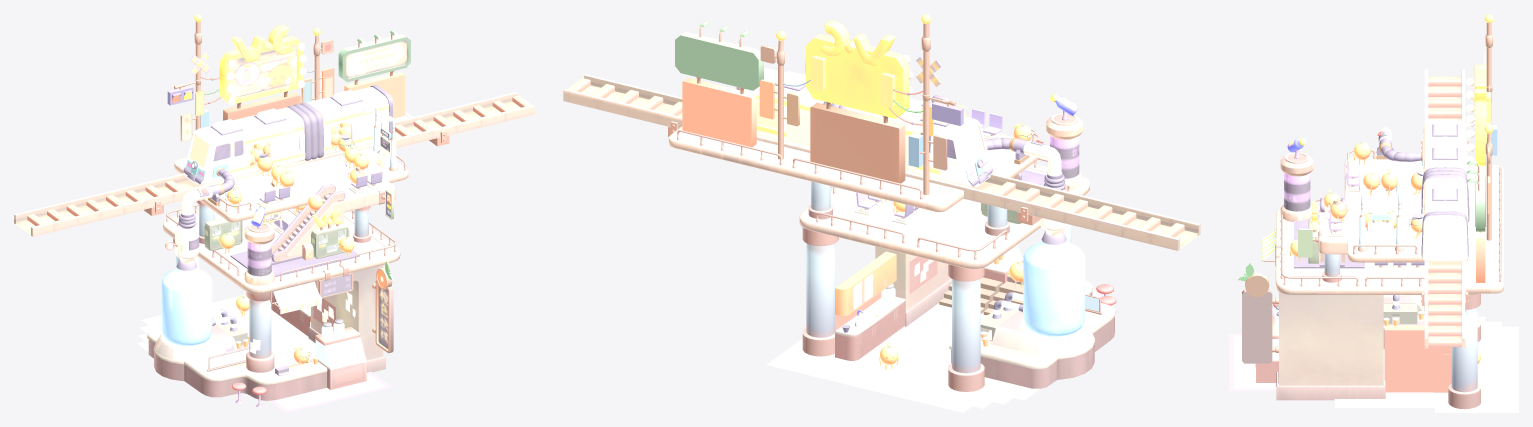
The model's file is orange-express.glb.
3 renders of one model, left to right at view 1: azimuth 30°, elevation 25°; view 2: azimuth 150°, elevation 25°; view 3: azimuth 270°, elevation 25°, orthographic. The views are drawn at different scales.
Visible parts, largest first — view 1: Poezd; view 2: Poezd; view 3: Poezd.
Boxes of the visible parts, x1,y1,x2,y2 form: Poezd: (14, 14, 534, 412); Poezd: (563, 14, 1200, 412); Poezd: (1229, 14, 1518, 412).
Bounding box in the file's own units: 674 × 391 × 305.
